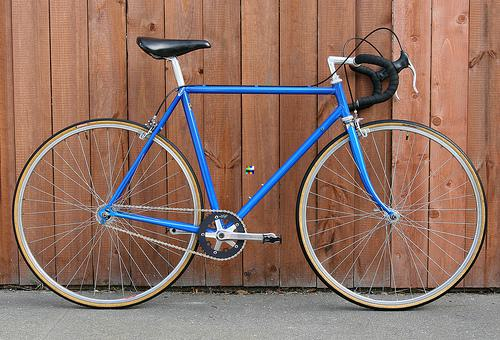car: (12, 27, 489, 313)
